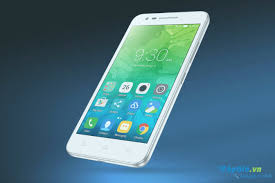lenovo: (65, 10, 212, 170)
